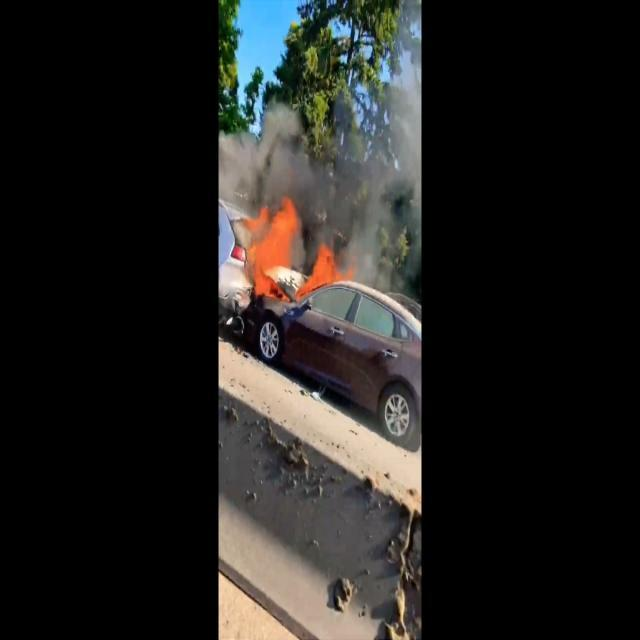fire: (245, 190, 354, 315)
